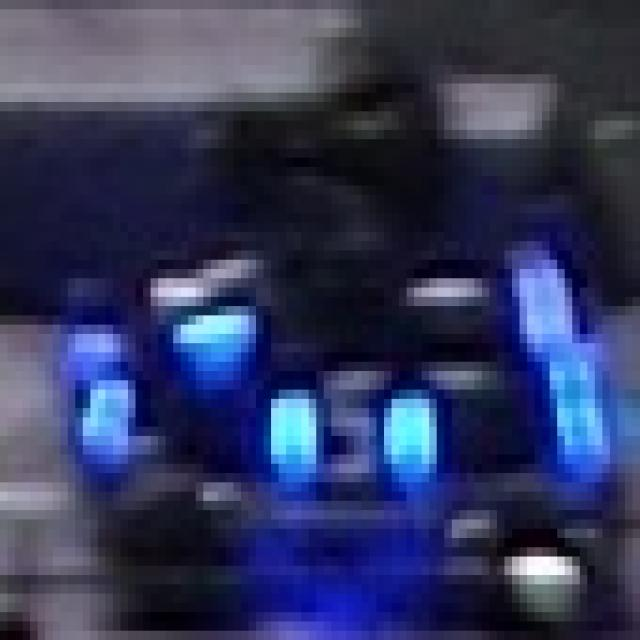B5: (264, 352, 429, 501)
